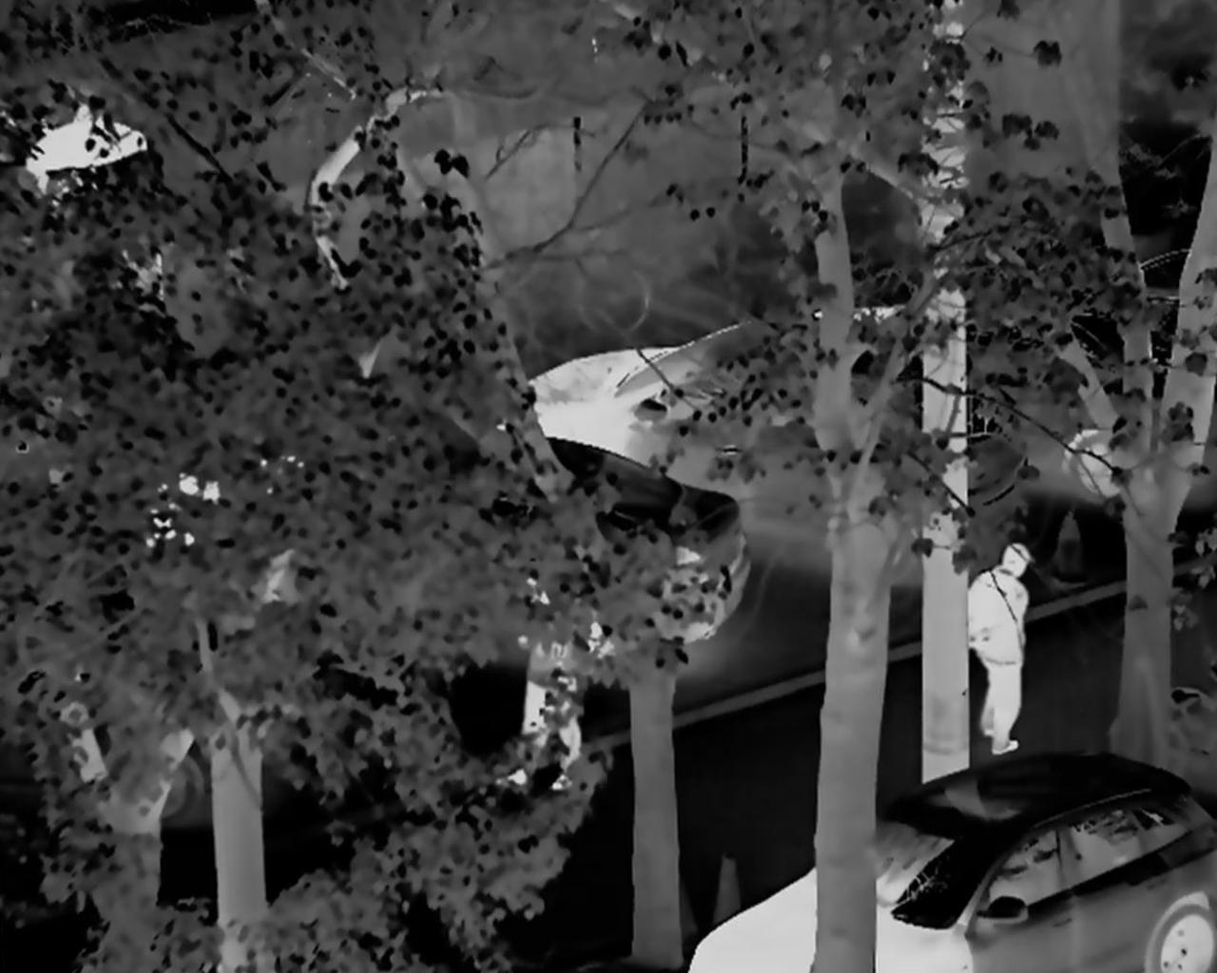person: (955, 530, 1041, 776), (508, 577, 590, 800)
